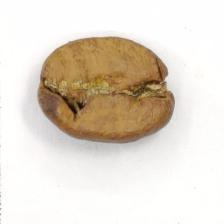NG: (40, 61, 166, 124)
